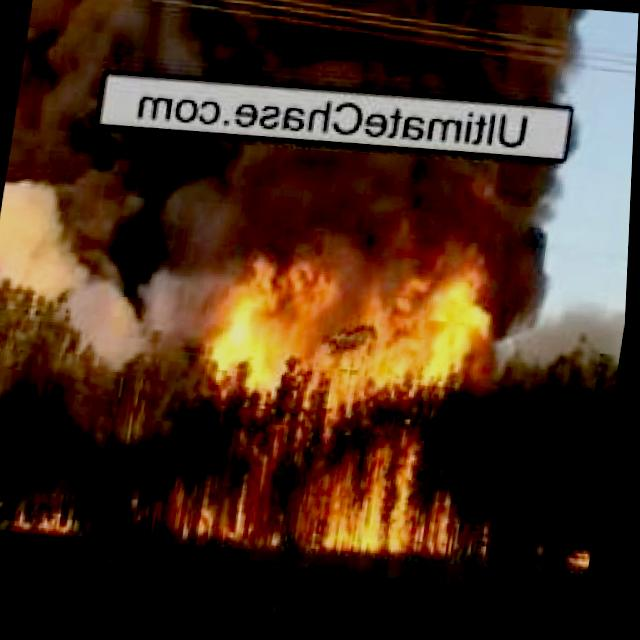Fire: (181, 220, 507, 566), (17, 504, 78, 537), (571, 545, 597, 574)
Smoke: (0, 110, 566, 331), (21, 0, 587, 122)
